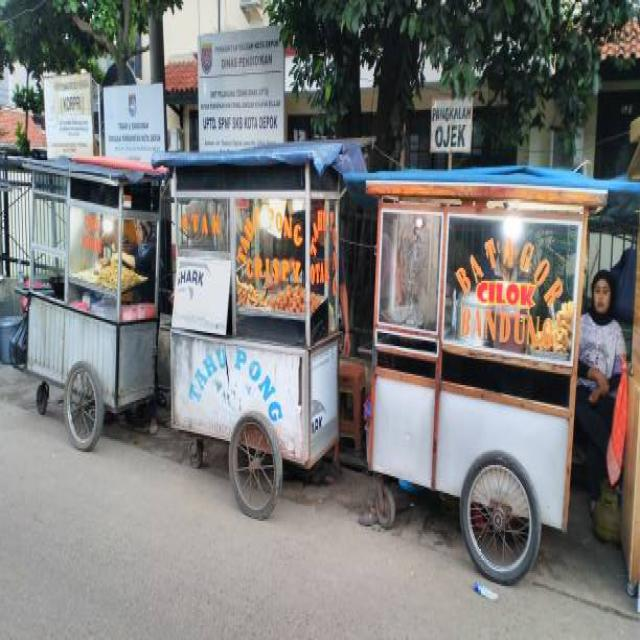Emperan: (369, 155, 631, 590), (148, 126, 376, 527), (17, 134, 164, 454)
